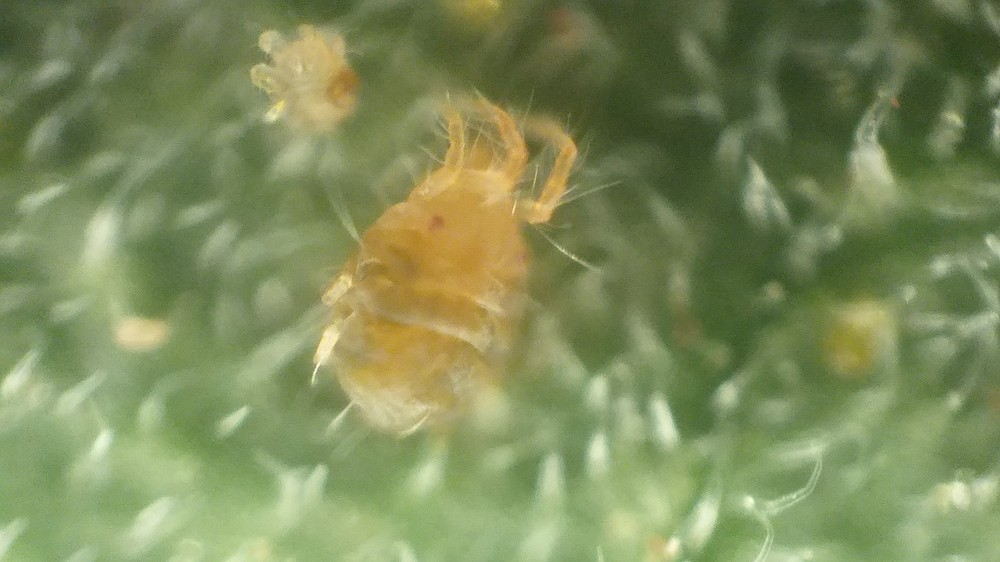Aracnido Rojo: (329, 97, 593, 488), (251, 19, 374, 130)
